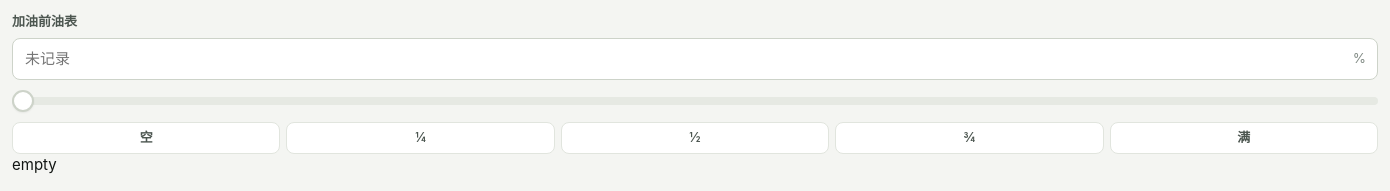
it: GaugeField › clamps out-of-range input on blur and can be cleared
Type "140" into the number field labelled "加油前油表".
click(695, 58); type("140")  # box [12, 38, 1378, 80]
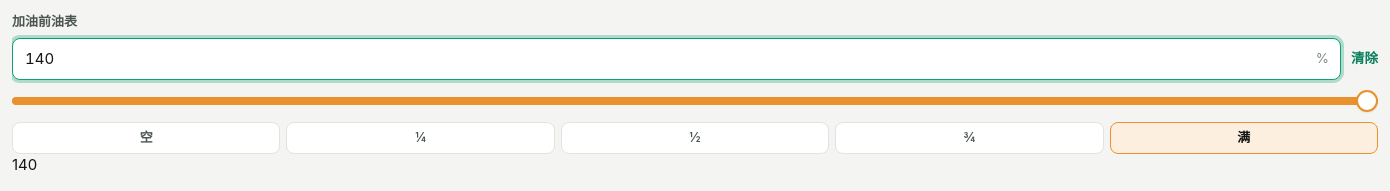
Leave the number field labelled "加油前油表", box [12, 38, 1341, 80]
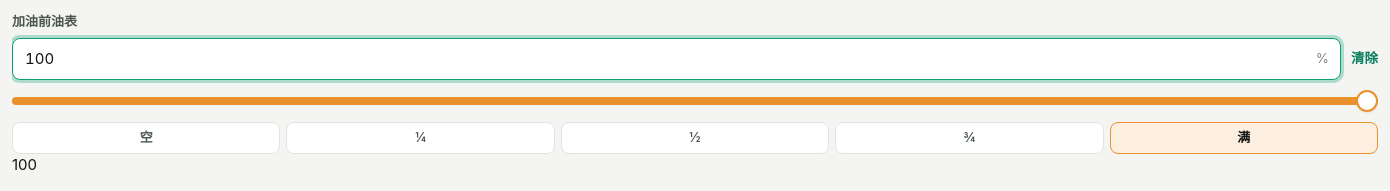
Expected: the text with test id "value" reads "100", [12, 154, 37, 174]
Click the button with aria-label "清除刻度".
click(1364, 59)  # box [1351, 48, 1378, 69]
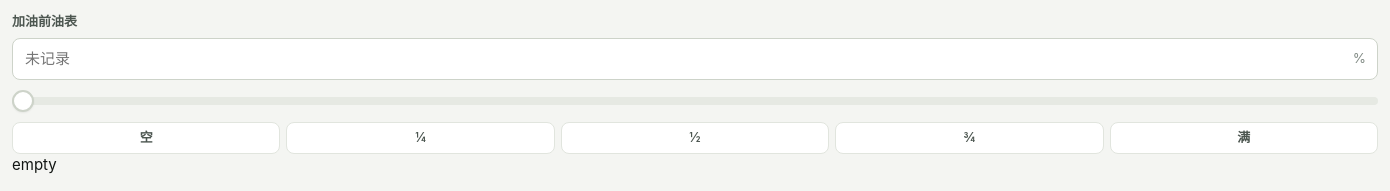
Expected: the text with test id "value" reads "empty", [12, 154, 57, 174]
